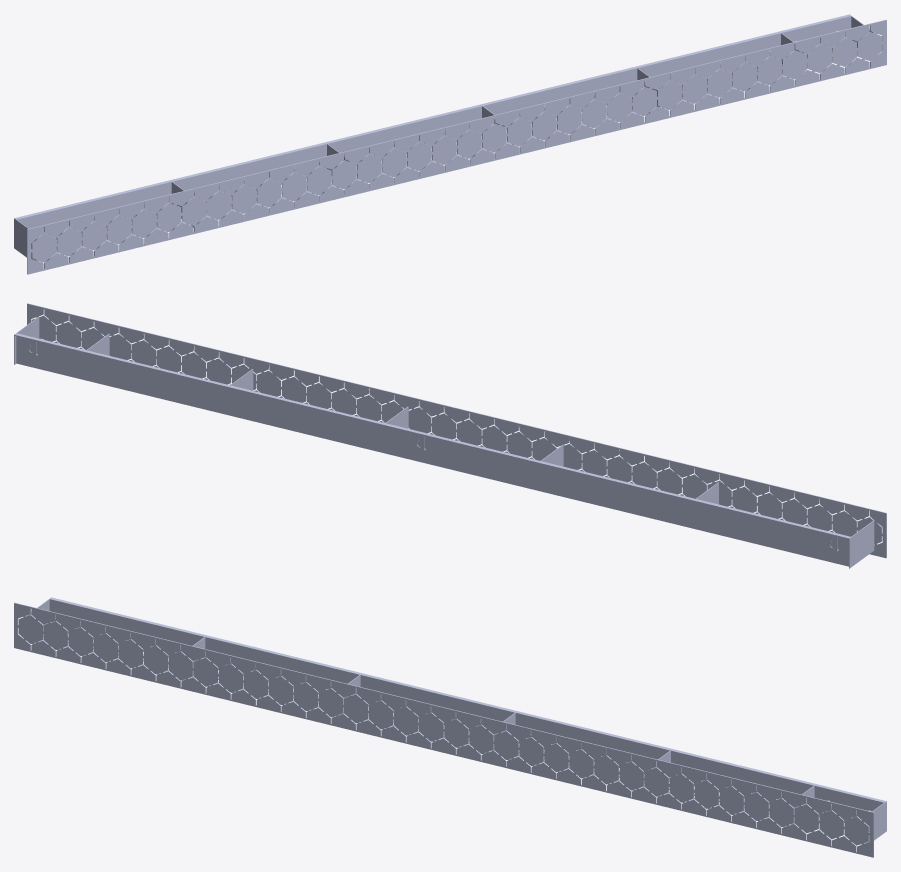
The model's file is bee-patron.a3f1f11acf.glb.
3 views of the same model, one above another, from view 1: azimuth 30°, elevation 25°; view 2: azimuth 150°, elevation 25°; view 3: azimuth 330°, elevation 25° (orthographic).
Parts seen in each view (by area): view 1: NAUO1; view 2: NAUO1; view 3: NAUO1.
Boxes of the visible parts, <box> form: NAUO1: <box>14,14,886,274</box>; NAUO1: <box>14,303,886,568</box>; NAUO1: <box>14,597,886,857</box>.
Size of the model in its own units: 1.8 by 0.0901 by 0.0921.
